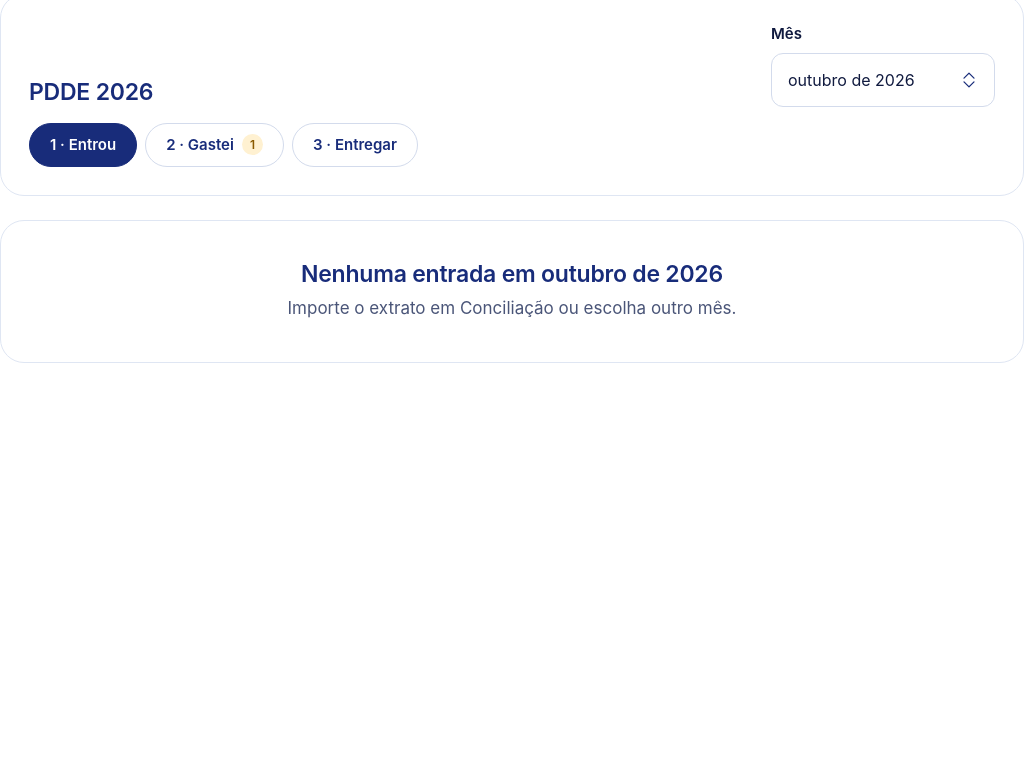
Test: PddeArea: entregar › salva os dados da escola e manda o CNPJ como foi digitado (a API confere)
Click the tab "3 · Entregar" at (355, 145), box [292,123,418,167]
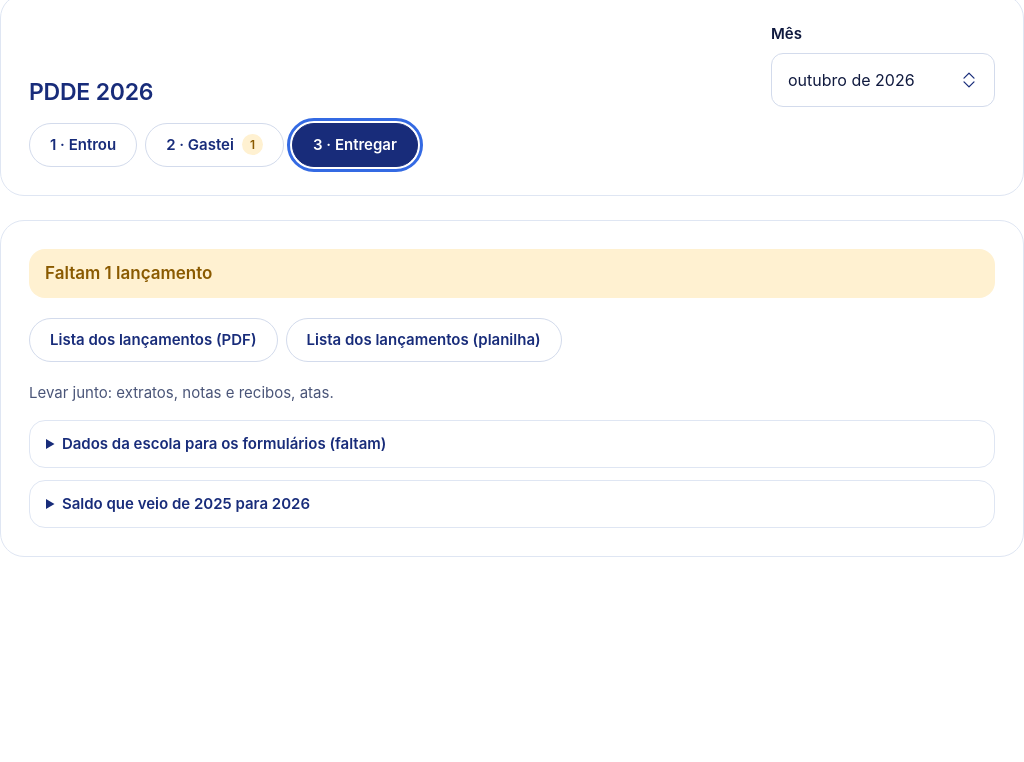
Click the heading "Dados da escola para os formulários (faltam)" at (224, 444), box [62,434,386,453]
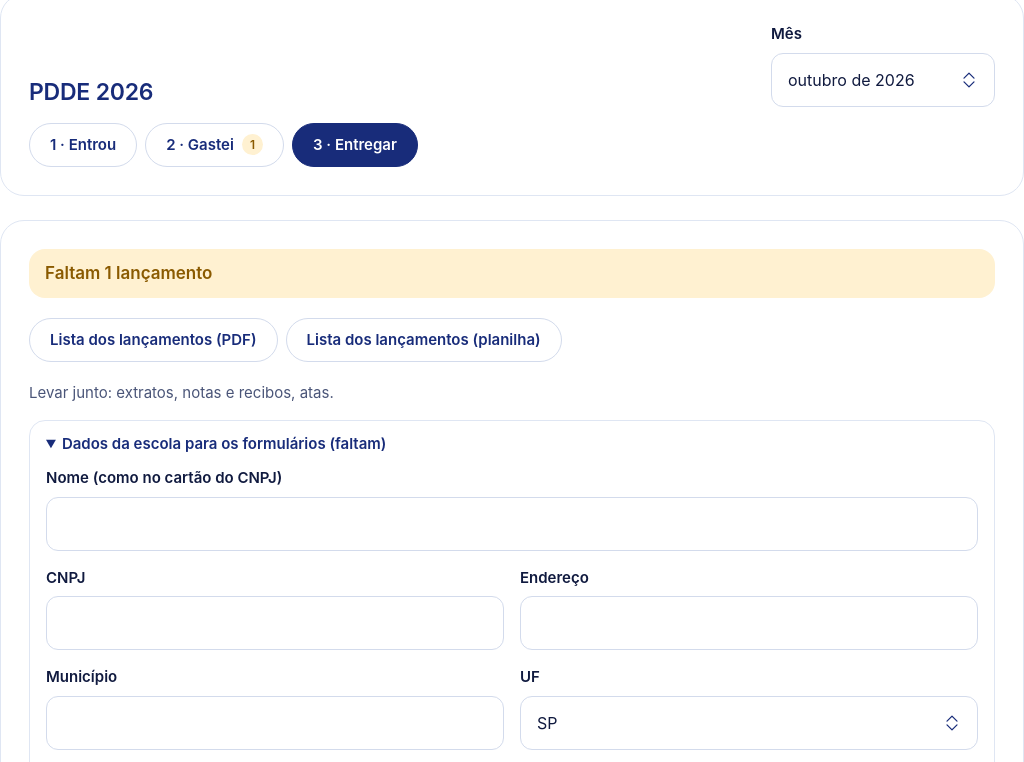
Type "APM Exemplo" into the field labelled "Nome (como no cartão do CNPJ)" at (512, 524), box [46,496,978,550]
Type "11.222.333/0001-81" into the field labelled "CNPJ" at (275, 623), box [46,596,504,650]
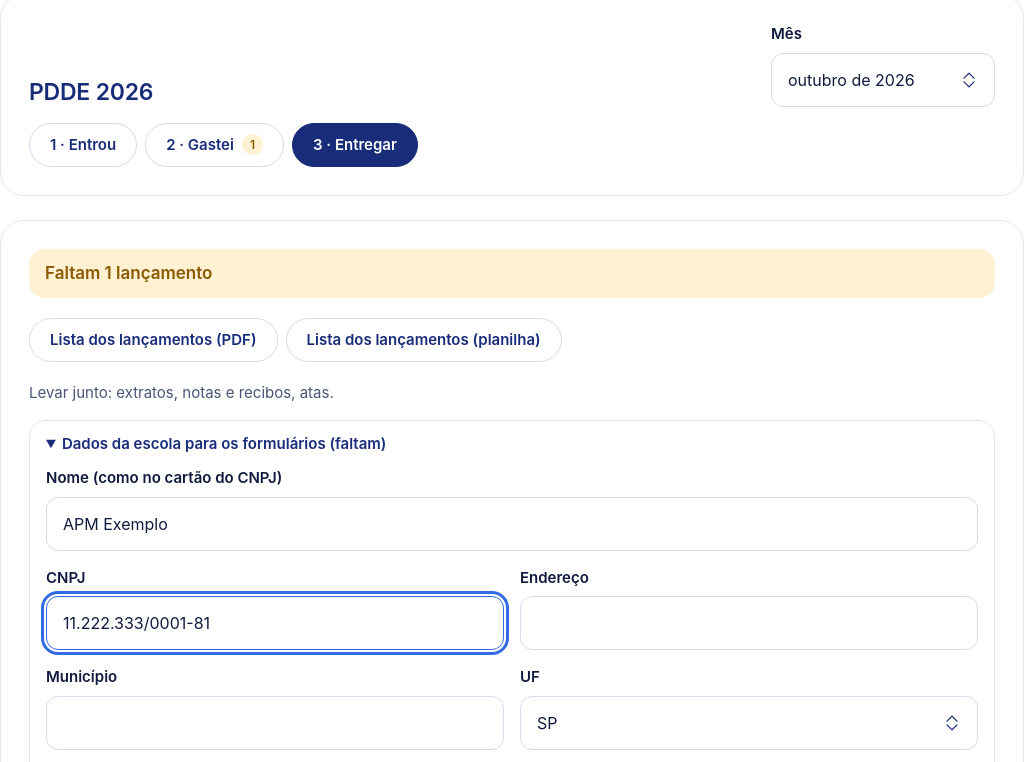
Type "Rua das Flores, 100" into the field labelled "Endereço" at (749, 623), box [520,596,978,650]
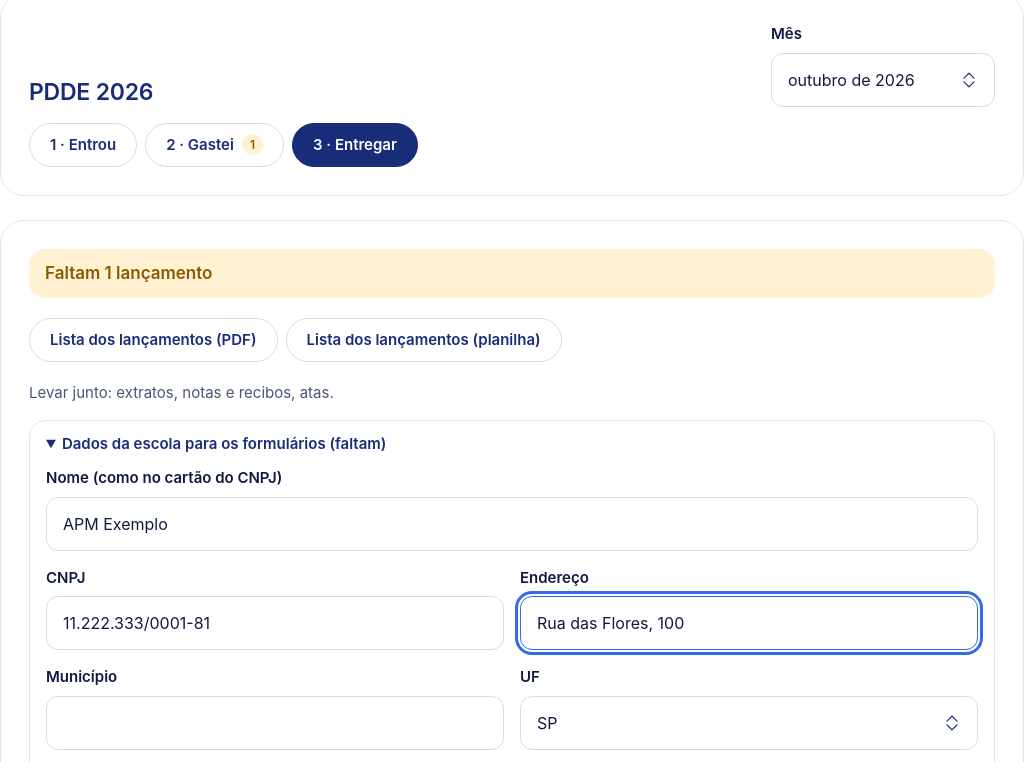
Type "Jundiaí" into the field labelled "Município" at (275, 723), box [46,696,504,750]
(page scrolled)
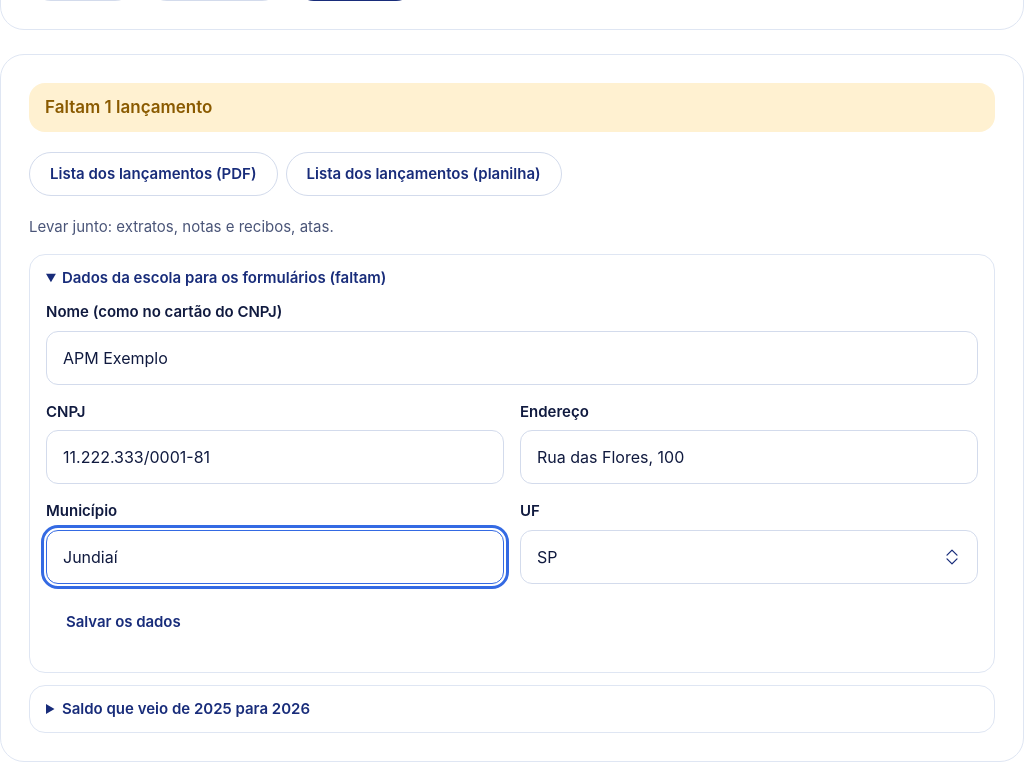
Click the button "Salvar os dados" at (123, 622), box [46,600,201,644]
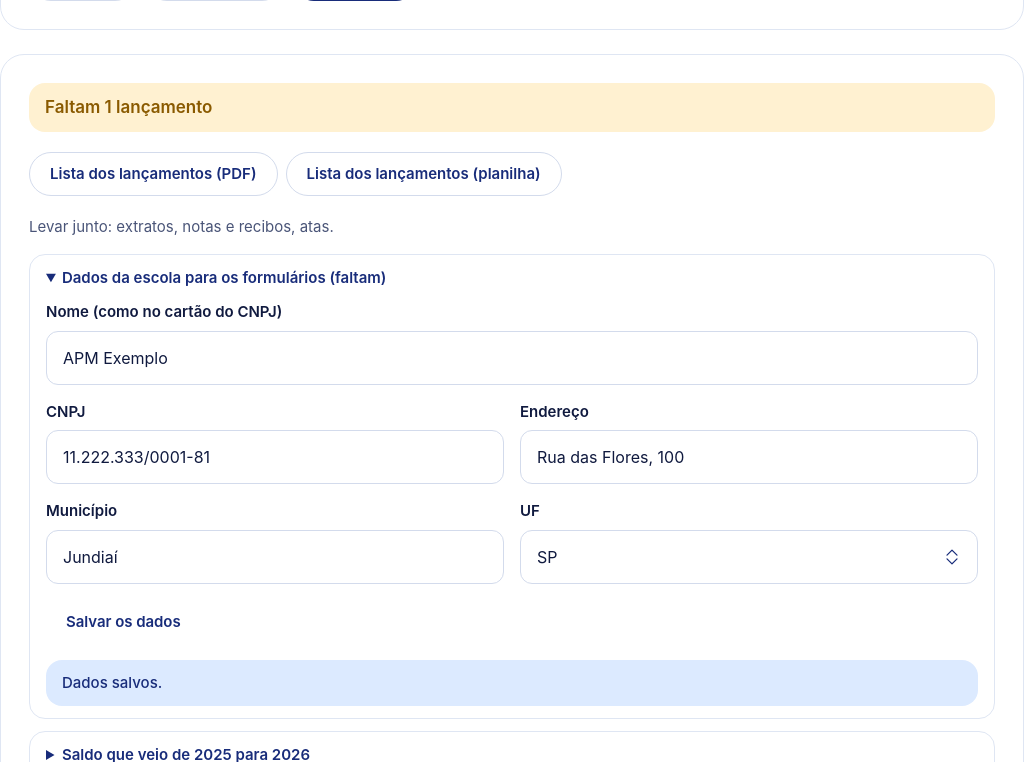
Now the text "Dados salvos." is shown, box [46,660,978,706]
